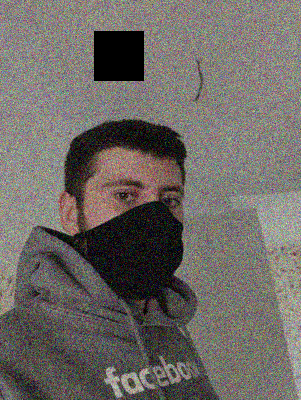with_mask: (84, 163, 184, 300)
